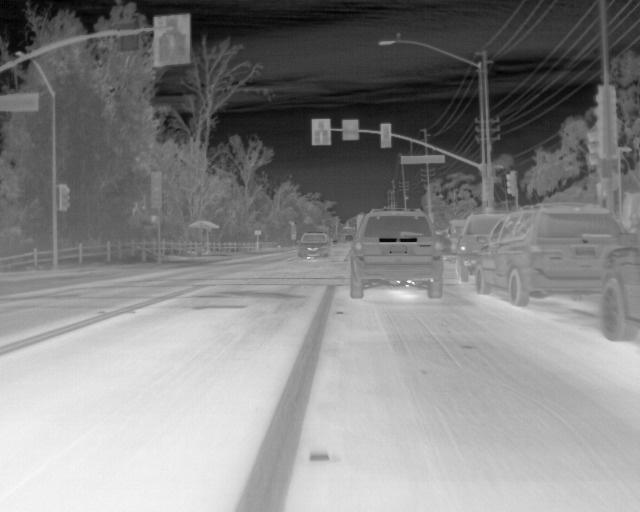car: (475, 203, 599, 307), (348, 206, 443, 300), (600, 242, 639, 343), (457, 213, 477, 282), (296, 229, 332, 260)
